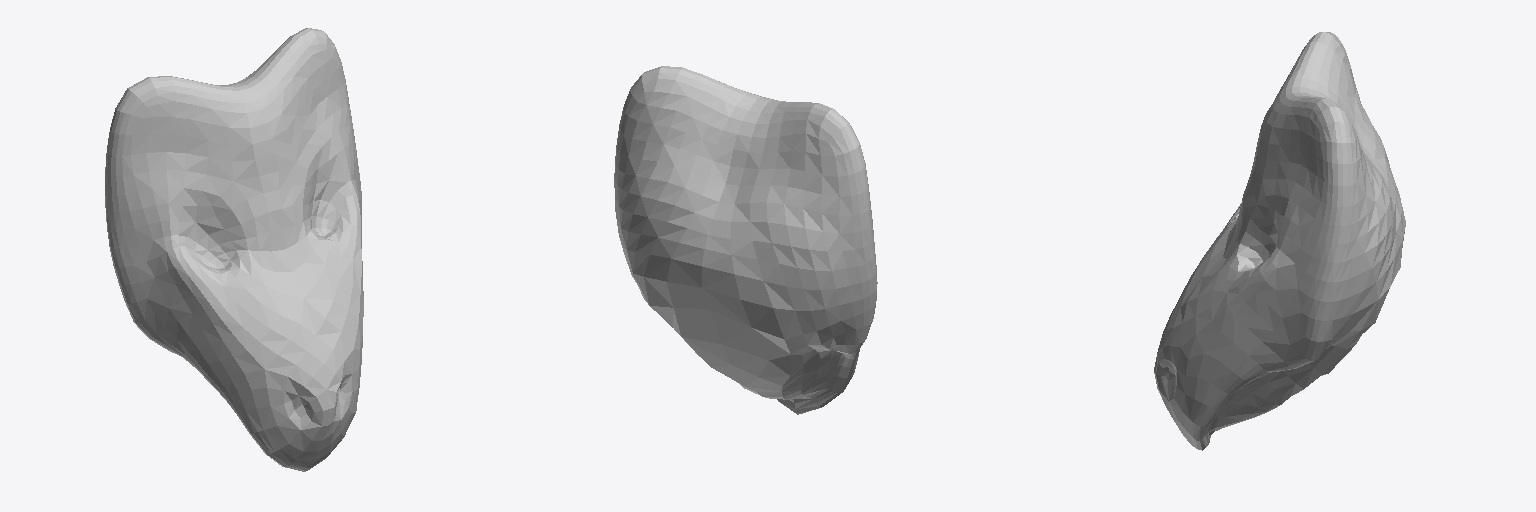
Rendered from idollow.OBJ.
3 views of the same model, side by side, from view 1: azimuth 30°, elevation 25°; view 2: azimuth 150°, elevation 25°; view 3: azimuth 270°, elevation 25° (orthographic).
Visible parts, largest first — view 1: Group29817; view 2: Group29817; view 3: Group29817.
Part boxes in pixels (x1,y1,x2,y2): Group29817: (105,28,363,471); Group29817: (614,66,877,414); Group29817: (1154,32,1405,450).
Bounding box in the file's own units: 0.7013 × 1 × 0.6087.